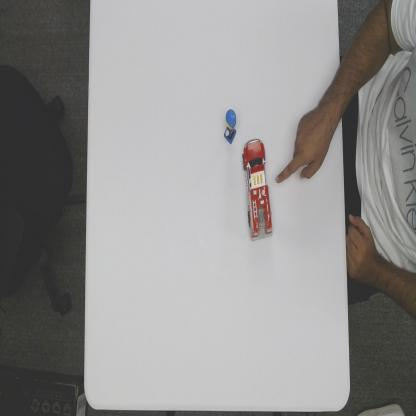Arm: (326, 66, 341, 143)
Firetruck: (241, 135, 273, 241)
Hand: (274, 104, 325, 188)
